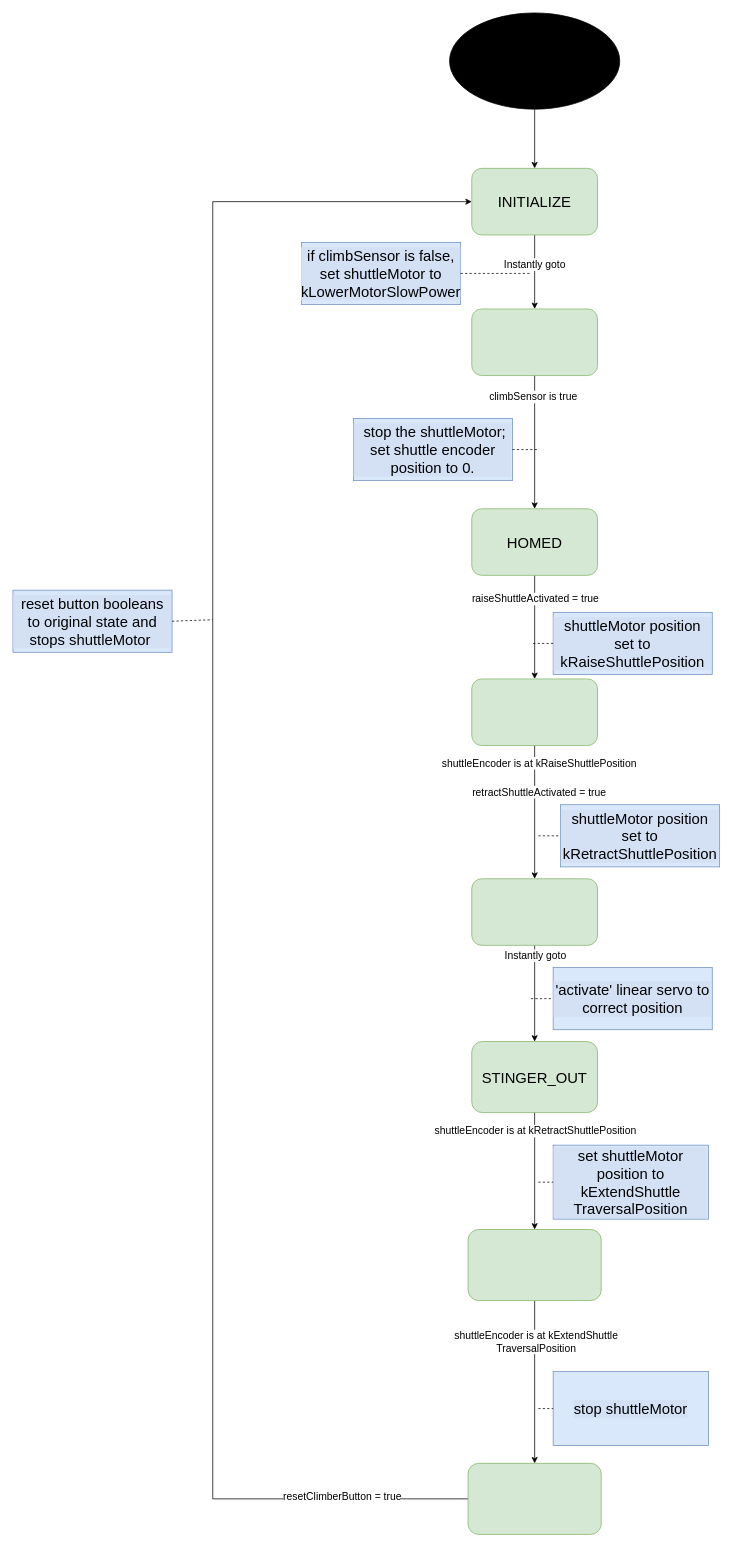
Some shapes in this 733 by 1547 pixel diagram are drawn without their labels. The shapes that lost their labels are listed below. From the top down, each one's centre as x and y in pixels, then its label:
At pixel 534 60: "ClimberStateMachine".
At pixel 534 342: "HOMING".
At pixel 534 712: "EXTEND_ SHUTTLE".
At pixel 534 911: "RETRACT_ SHUTTLE".
At pixel 534 1265: "EXTEND_SHUTTLE _TRAVERSAL".
At pixel 534 1498: "FINISHED".
